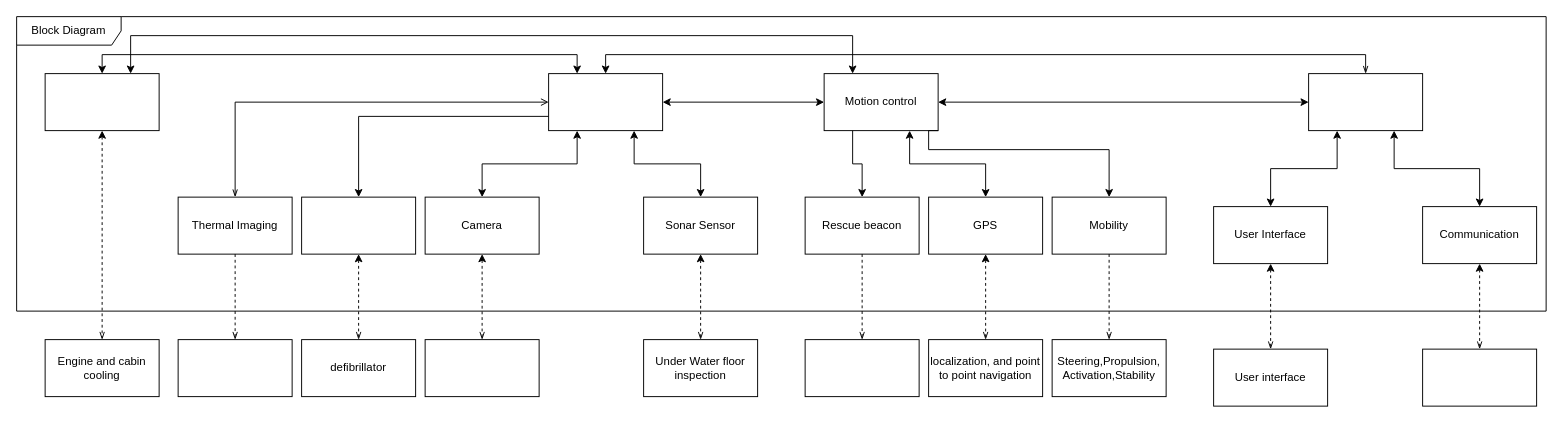
Some shapes in this 1563 by 423 pixel diagram are drawn without their labels. The shapes that lost their labels are listed below. From the top down, each one's centre as x and y in pixels, then its label:
At point 101,102: "Cooling".
At point 605,102: "ECU".
At point 1365,102: "Rescue Bot".
At point 358,225: "Medical Assistance".
At point 234,368: "Thermal Source detection".
At point 481,368: "Live video capturing".
At point 861,368: "Distress signal transmission".
At point 1479,377: "Make and receive call, send and receive messages and voice amplification".
